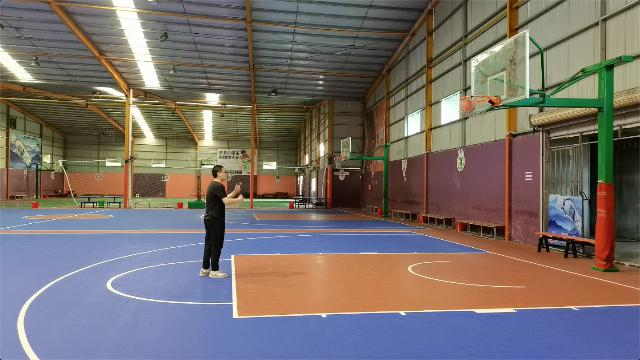basket: (460, 94, 490, 125)
goal: (458, 95, 476, 112)
